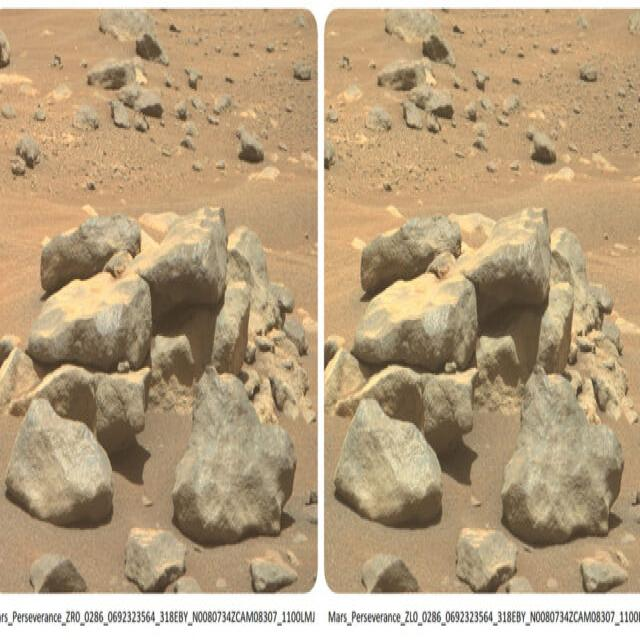rocks: (0, 32, 276, 171), (460, 69, 567, 160), (376, 39, 469, 135), (324, 103, 392, 169)
stone: (171, 370, 295, 544), (502, 370, 623, 544), (324, 348, 476, 453), (0, 347, 148, 453), (334, 400, 441, 526), (5, 398, 111, 524), (27, 272, 151, 372), (352, 274, 477, 372), (451, 208, 549, 318), (129, 208, 226, 316), (361, 215, 461, 295), (41, 215, 140, 293), (566, 331, 638, 423), (226, 228, 282, 332), (550, 228, 601, 336), (151, 306, 217, 386), (476, 308, 541, 386), (95, 368, 148, 453), (385, 9, 454, 64), (124, 528, 185, 590), (456, 528, 515, 590), (99, 9, 166, 62), (212, 284, 250, 373), (537, 283, 573, 372), (29, 555, 88, 590), (361, 556, 418, 590), (449, 213, 496, 251), (580, 558, 627, 590), (249, 560, 296, 590), (425, 251, 455, 277), (103, 251, 133, 276), (577, 64, 599, 87), (80, 180, 103, 190), (381, 180, 399, 190)
white-sand: (0, 9, 316, 411), (326, 11, 639, 347), (0, 306, 214, 592), (326, 404, 518, 590), (183, 418, 318, 592), (517, 414, 639, 592), (245, 345, 311, 420)
